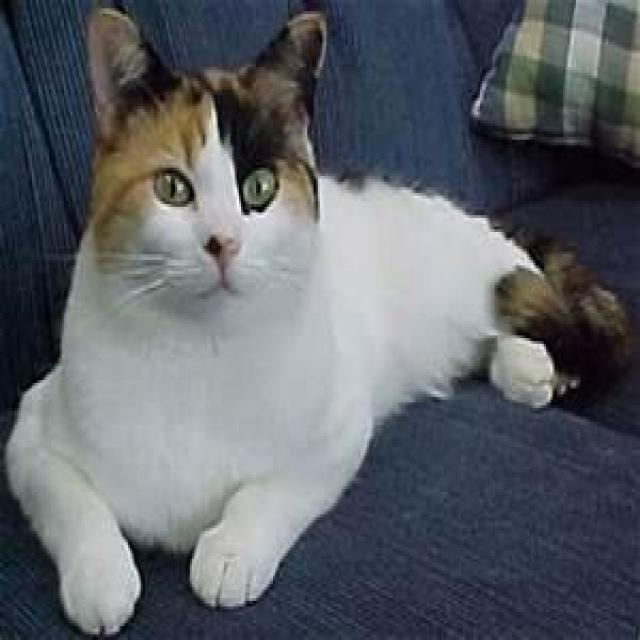animal: (2, 3, 629, 637)
